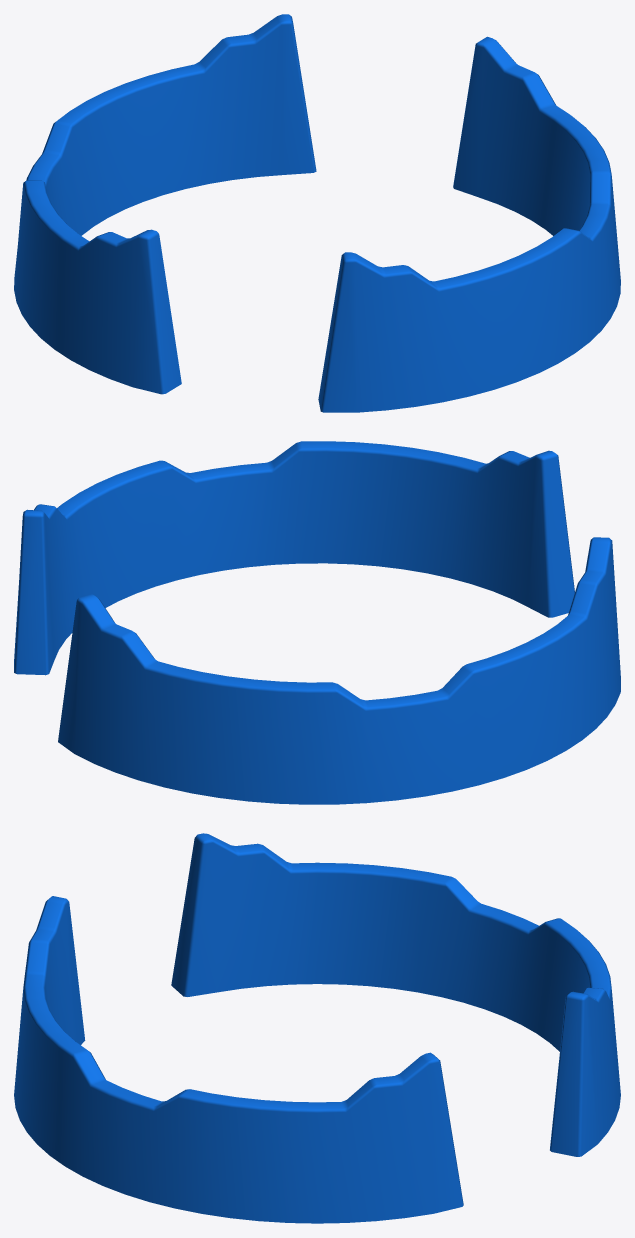
The model's file is Temple_Circle.fbx.
The picture shows the model from 3 angles, top to bottom: view 1: azimuth 30°, elevation 25°; view 2: azimuth 150°, elevation 25°; view 3: azimuth 270°, elevation 25°; orthographic projection.
Visible parts, largest first — view 1: Cylinder; view 2: Cylinder; view 3: Cylinder.
Boxes of the visible parts, <box> form: Cylinder: <box>14,14,620,412</box>; Cylinder: <box>14,441,620,804</box>; Cylinder: <box>14,833,620,1223</box>.
Bounding box in the file's own units: 1032 × 279 × 1032.
